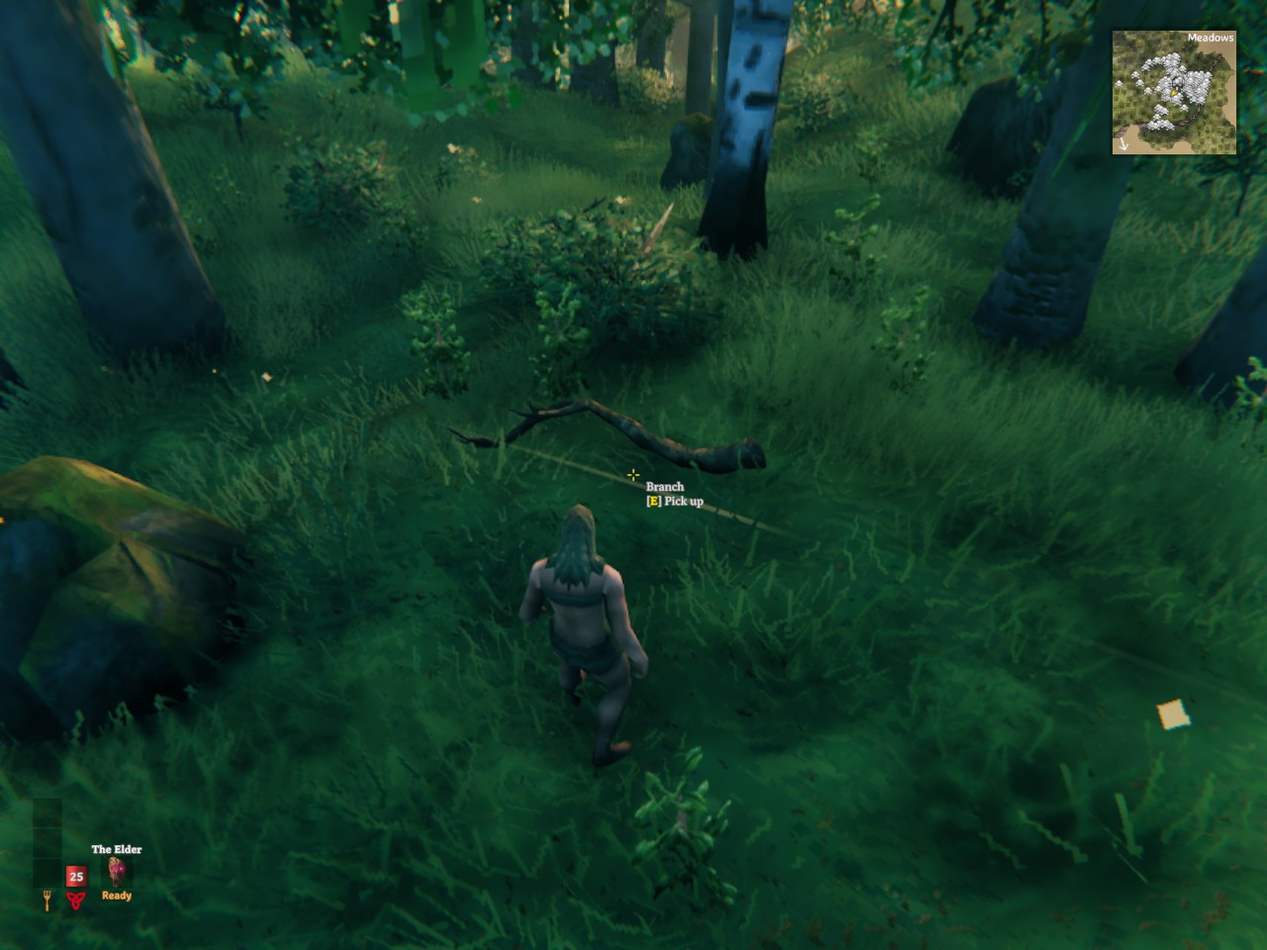Branch: (450, 399, 765, 473)
Health Bar: (65, 865, 87, 887)
